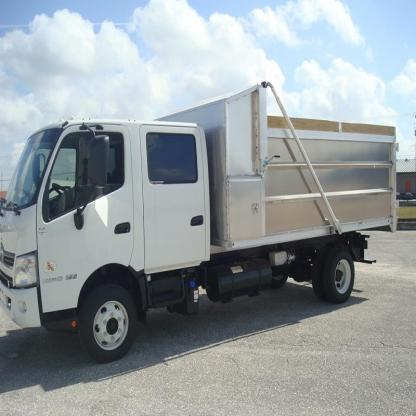dump_truck: (7, 66, 407, 376)
